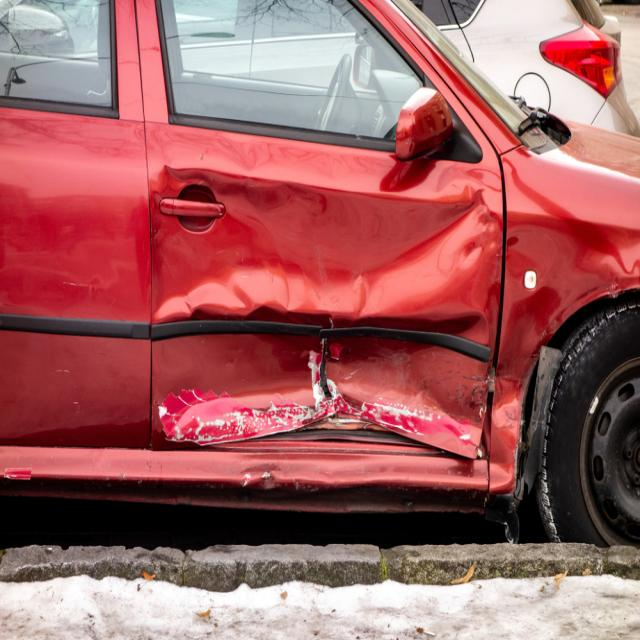crack: (318, 336, 335, 400)
dent: (155, 178, 496, 451), (494, 286, 564, 430)
